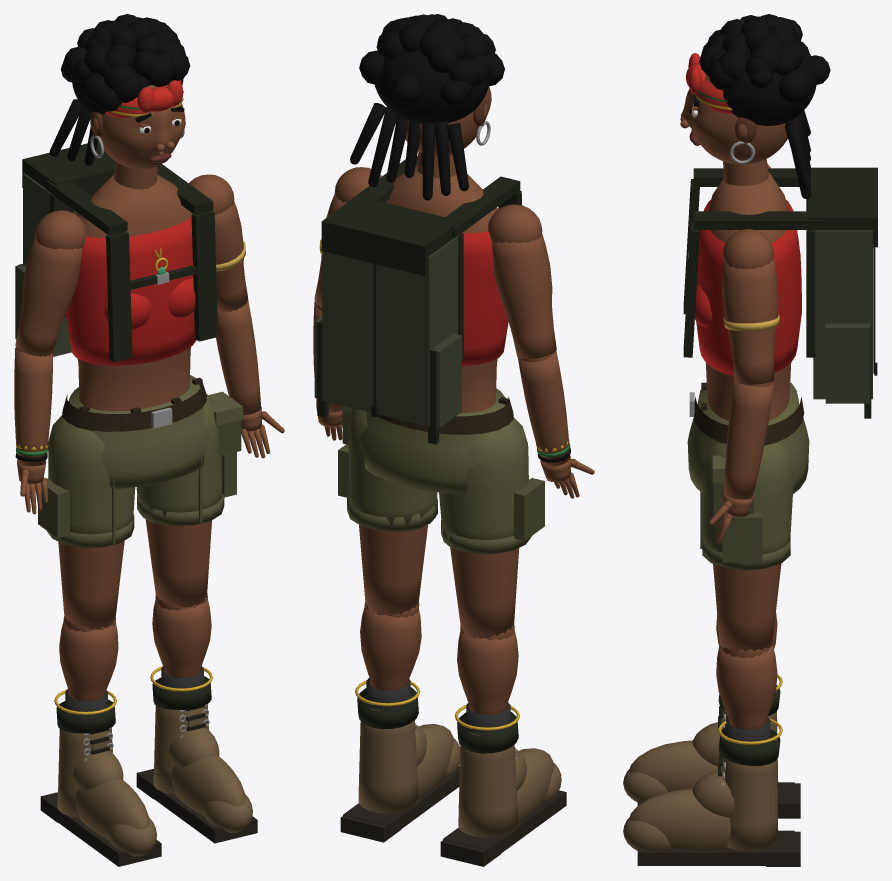
File: female_trinidadian_engine.glb
The picture shows the model from 3 angles, left to right: view 1: azimuth 30°, elevation 25°; view 2: azimuth 150°, elevation 25°; view 3: azimuth 270°, elevation 25°; orthographic projection. The views are drawn at different scales.
Parts seen in each view (by area): view 1: crop_top, torso_skin, shorts_waist, shorts_leg_R, upper_arm_R, thigh_R, thigh_L, forearm_R, shin_R, shorts_leg_L, shin_L, forearm_L (+41 smaller); view 2: backpack_body, backpack_flap, shorts_leg_R, shorts_waist, upper_arm_R, thigh_R, thigh_L, boot_shaft_L, boot_shaft_R, crop_top, torso_skin, shorts_leg_L (+41 smaller); view 3: crop_top, backpack_body, upper_arm_L, thigh_L, shorts_leg_L, torso_skin, backpack_flap, forearm_L, boot_shaft_L, boot_foot_L, shin_L, backpack_pocket_L (+28 smaller).
Boxes of the visible parts, x1,y1,x2,y2 form: crop_top: (66, 214, 196, 365); torso_skin: (77, 174, 192, 411); shorts_waist: (68, 375, 210, 488); shorts_leg_R: (48, 415, 135, 534); upper_arm_R: (15, 237, 82, 356); thigh_R: (58, 541, 124, 629); thigh_L: (145, 519, 211, 607); forearm_R: (14, 347, 52, 466); shin_R: (59, 621, 118, 701); shorts_leg_L: (136, 394, 222, 525); shin_L: (152, 599, 211, 677); forearm_L: (216, 300, 260, 415); backpack_body: (322, 235, 458, 426); backpack_flap: (321, 196, 459, 275); shorts_leg_R: (439, 417, 528, 552); shorts_waist: (359, 388, 505, 493); upper_arm_R: (492, 233, 556, 359); thigh_R: (450, 547, 519, 638); thigh_L: (359, 525, 427, 616); boot_shaft_L: (358, 708, 418, 813); boot_shaft_R: (458, 732, 518, 837); crop_top: (462, 208, 508, 365); torso_skin: (385, 166, 497, 413); shorts_leg_L: (348, 408, 437, 532); crop_top: (696, 200, 801, 375); backpack_body: (813, 230, 872, 399); upper_arm_L: (722, 258, 778, 384); thigh_L: (713, 563, 781, 651); shorts_leg_L: (702, 442, 793, 554); torso_skin: (705, 172, 791, 421); backpack_flap: (808, 167, 877, 247); forearm_L: (724, 381, 773, 499); boot_shaft_L: (723, 739, 778, 851); boot_foot_L: (629, 789, 730, 850); shin_L: (716, 643, 777, 729); backpack_pocket_L: (825, 323, 870, 403).
Size of the model in its own units: 0.6326 by 1.8 by 0.512.
